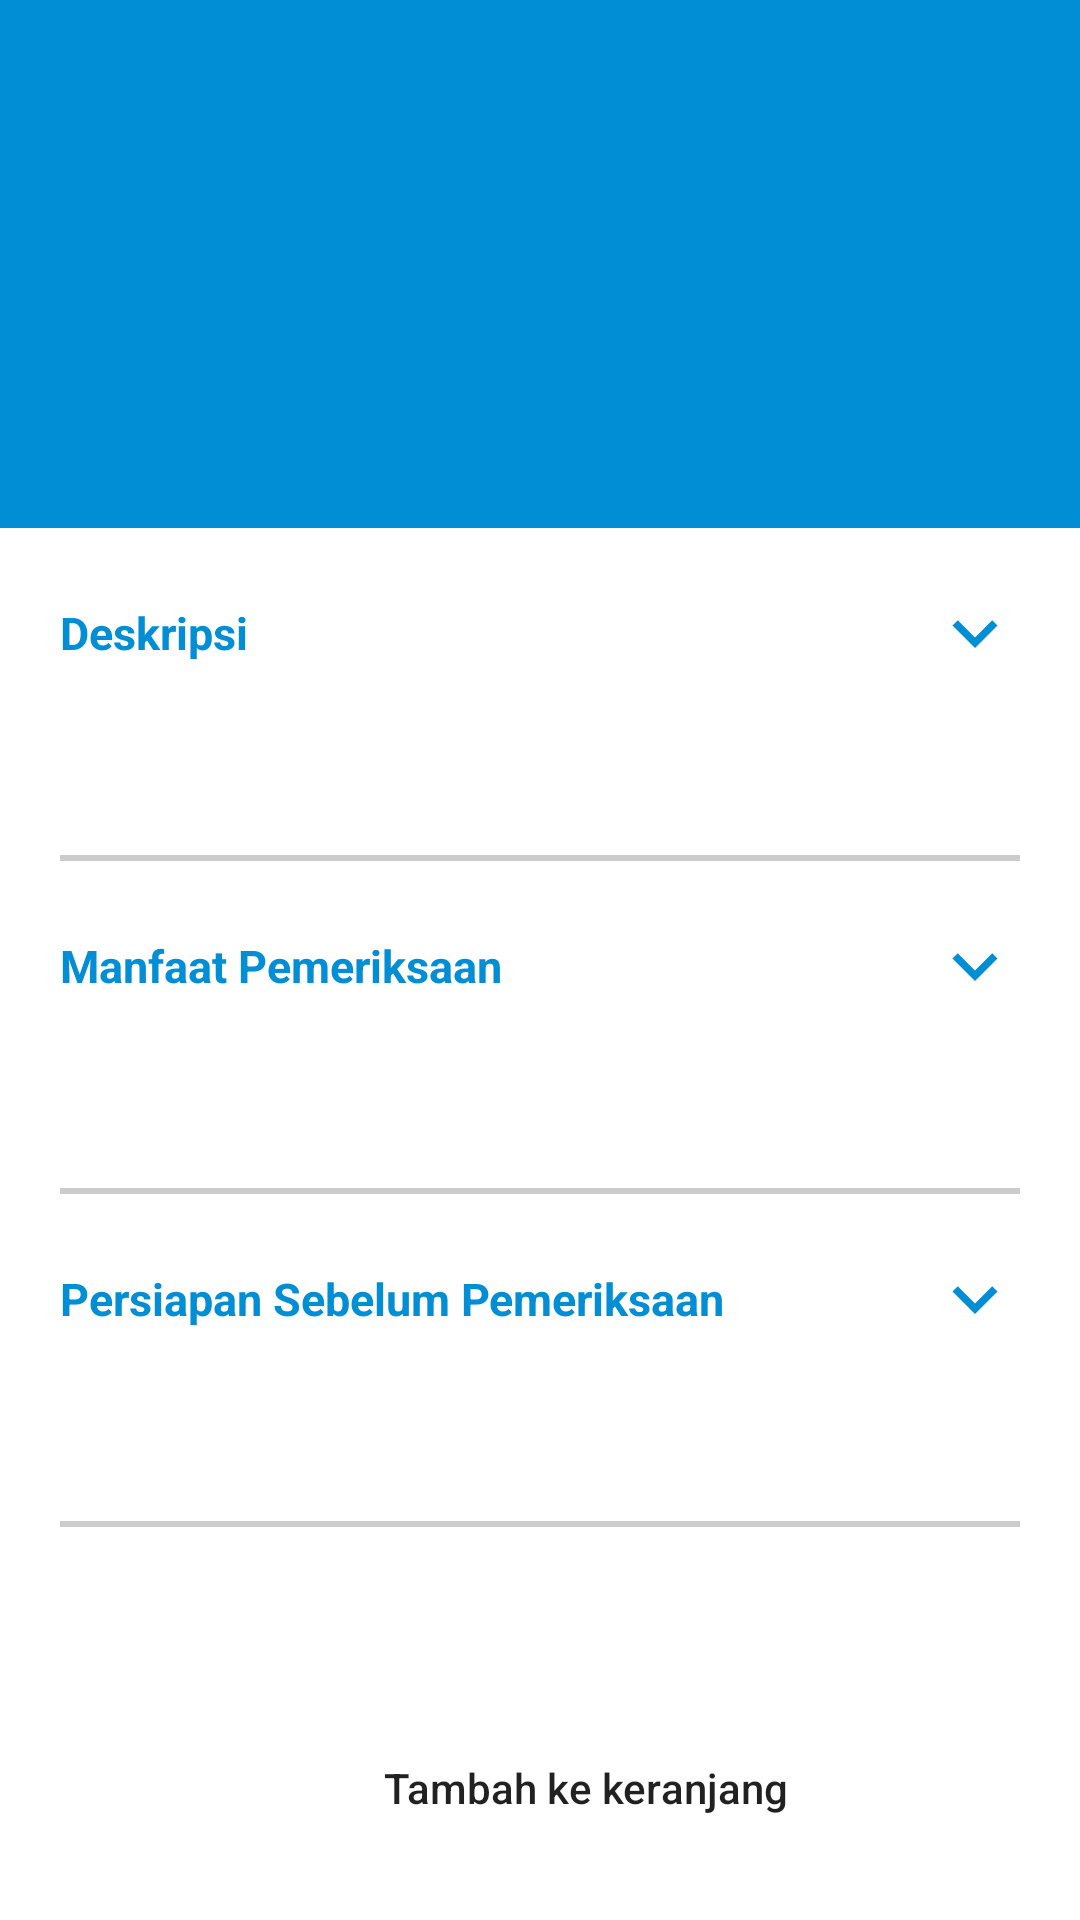

Where to tap for icons on this 1080w x 1920h app screen, as (x=x, y=y):
keyboard arrow down: (x=975, y=634), (x=975, y=967), (x=975, y=1300)
